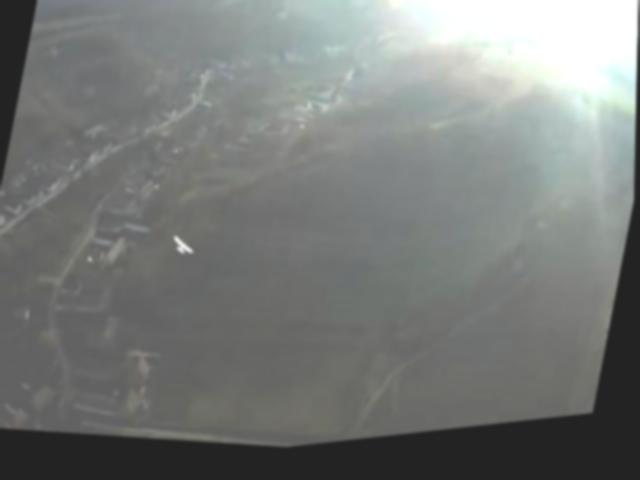iha: (173, 239, 196, 258)
